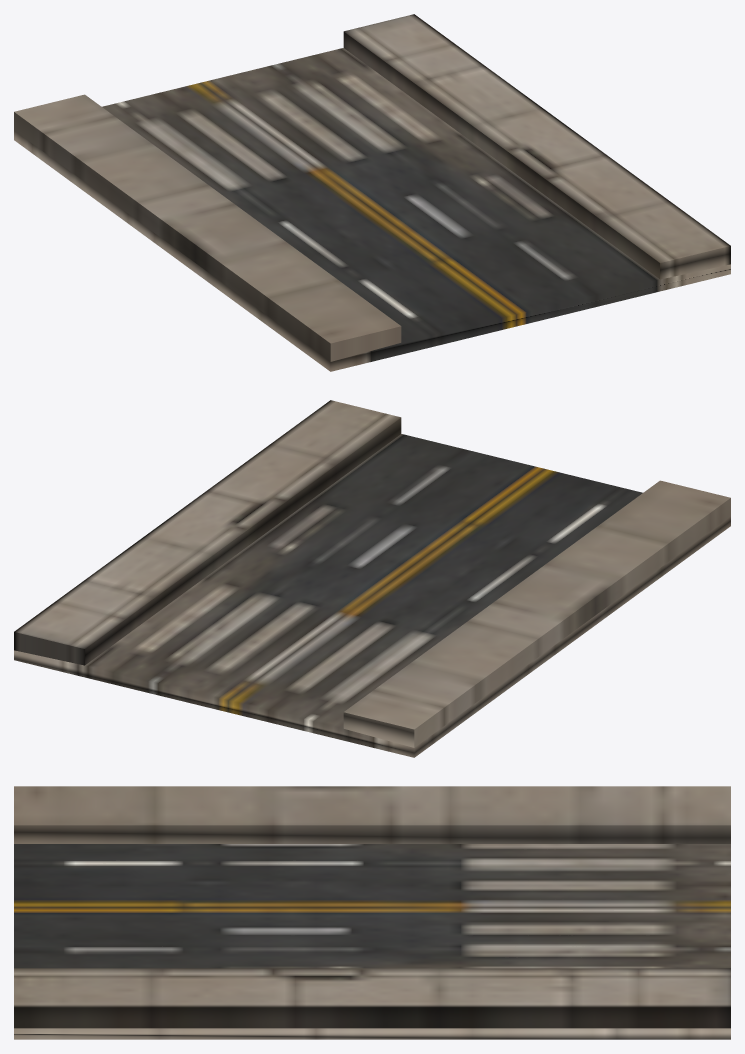
Rendered from yol.fbx.
The picture shows the model from 3 angles, top to bottom: view 1: azimuth 30°, elevation 25°; view 2: azimuth 150°, elevation 25°; view 3: azimuth 270°, elevation 25°; orthographic projection. The views are drawn at different scales.
Visible parts, largest first — view 1: Uçak.001; view 2: Uçak.001; view 3: Uçak.001.
Part boxes in pixels (bbox=[...]): Uçak.001: bbox=[14, 14, 730, 371]; Uçak.001: bbox=[14, 400, 730, 757]; Uçak.001: bbox=[14, 786, 730, 1039].
Bounding box in the file's own units: 336 × 22.72 × 460.
Materials: 1 (1 with a texture image).
